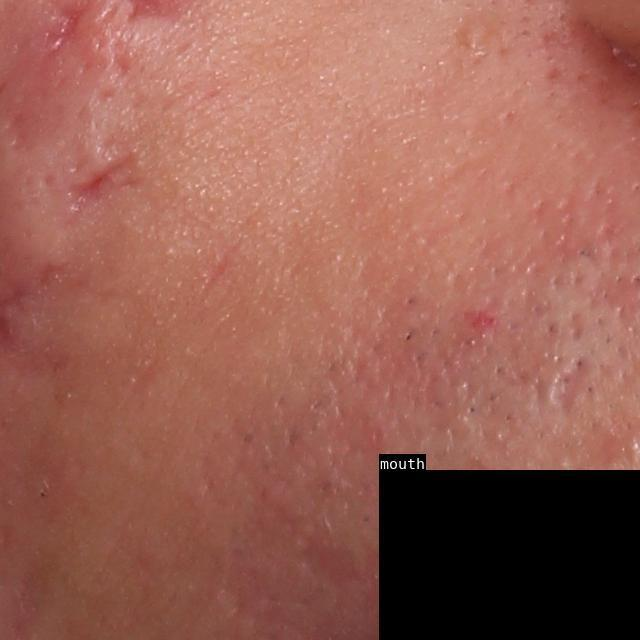atrophic_scar: (63, 150, 142, 228), (108, 27, 145, 87), (549, 356, 583, 421)
